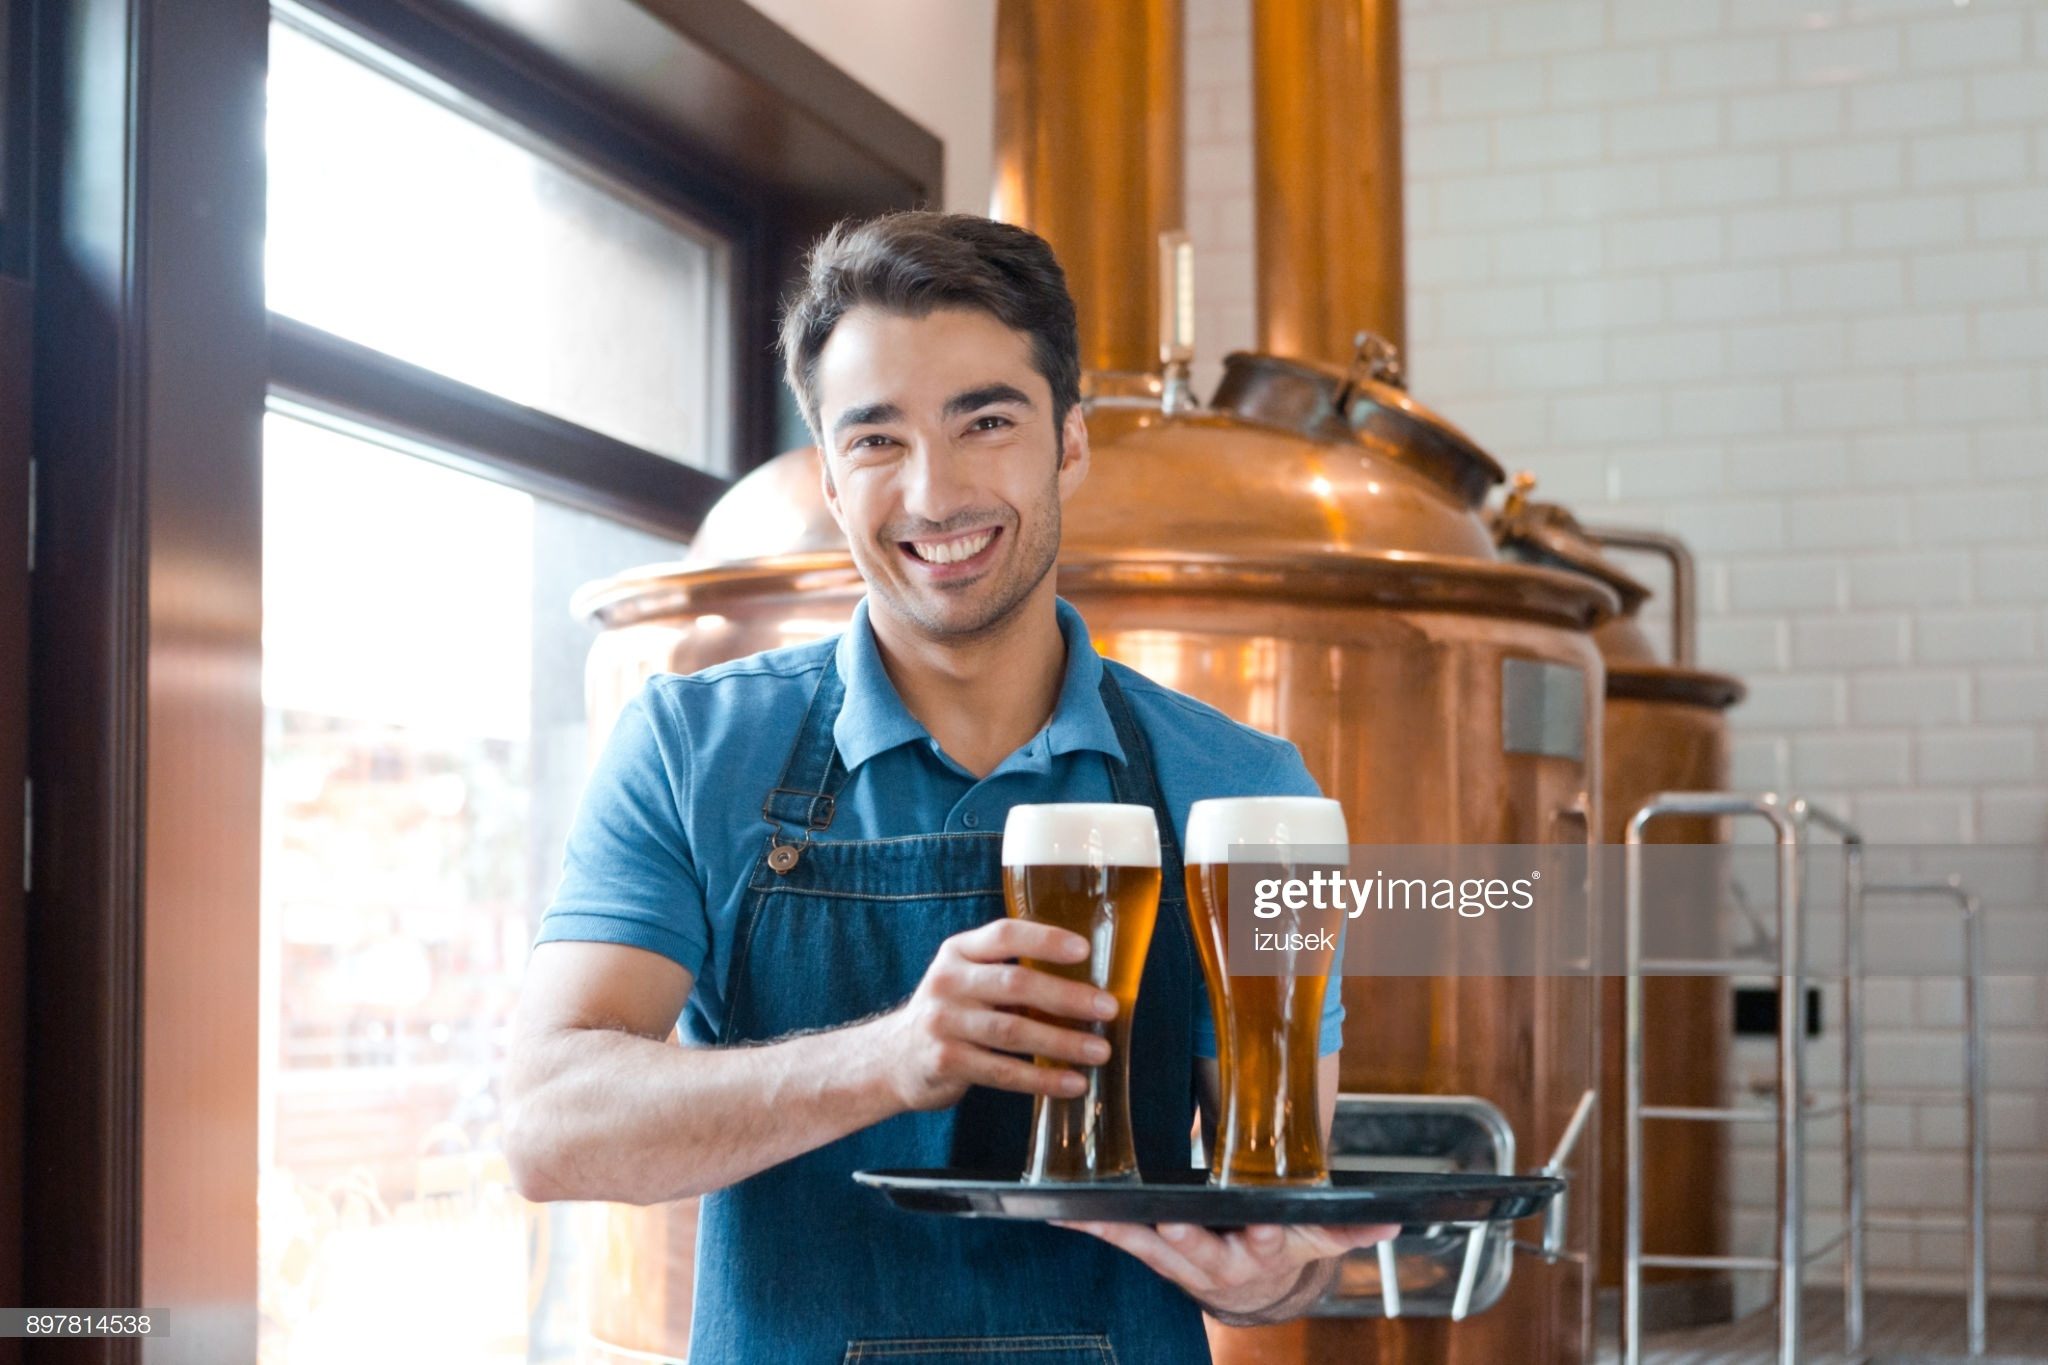glassBeer: (1186, 789, 1351, 1173), (990, 798, 1153, 1182)
